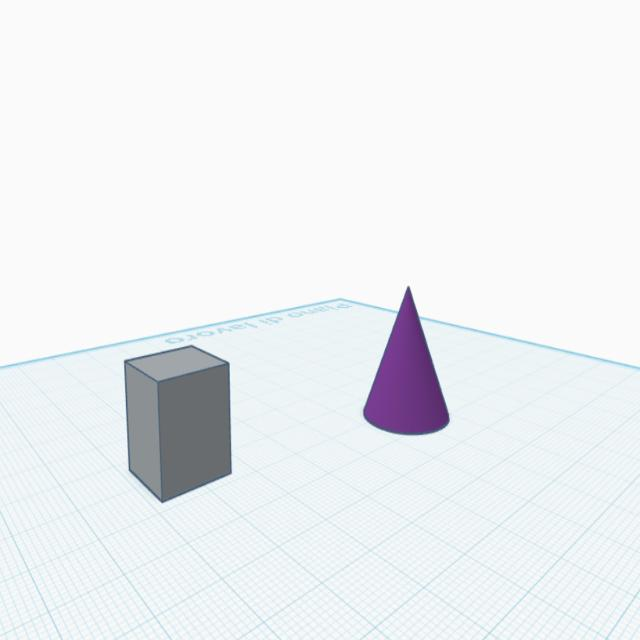cone: (360, 281, 452, 439)
cube: (122, 344, 235, 507)
